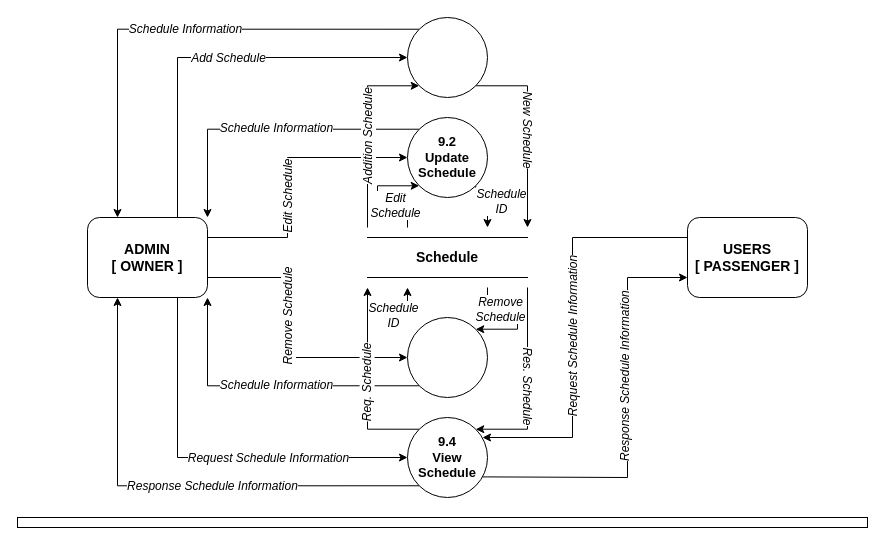
The diagram is 885 pixels wide and 545 high, and some of its shapes have lost their labels. Here are the shapes that lost their labels. From the top down, the centre of each, then its label:
the point at 447,57: 9.1 Insert Schedule
the point at 447,357: 9.3 Delete Schedule
